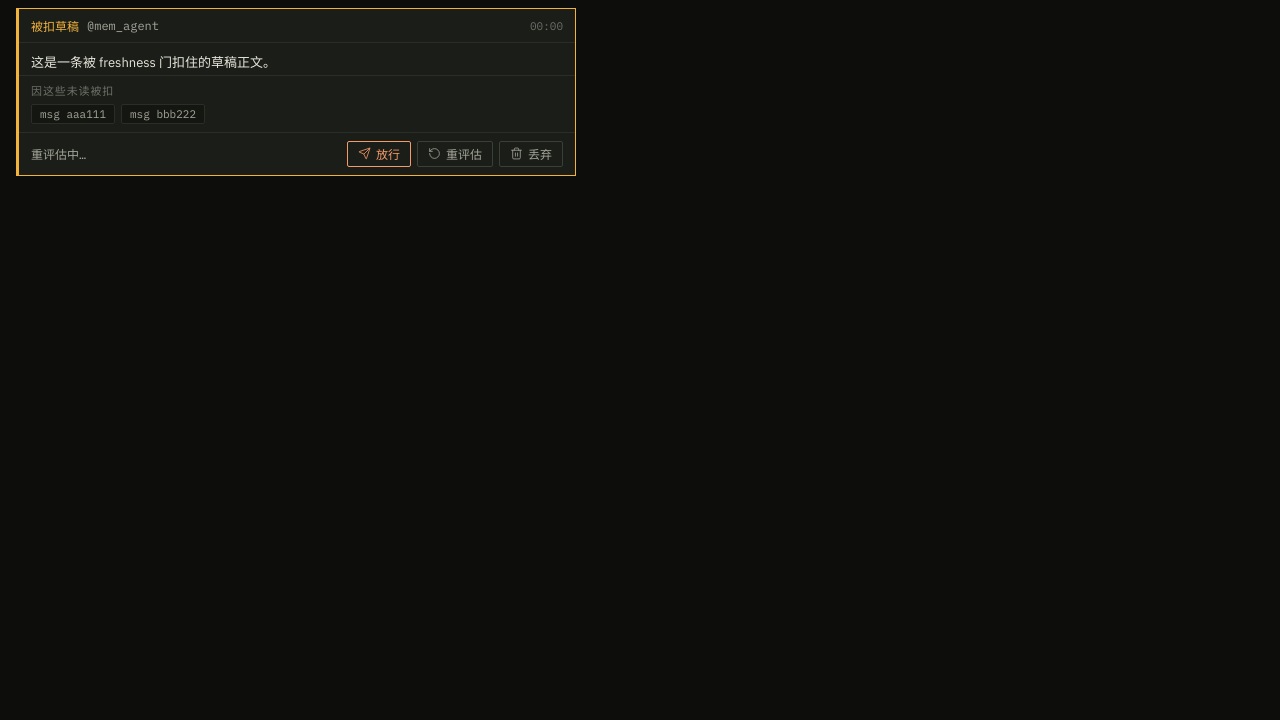
Test: HeldDraftCard 409 静默收敛(经查询缓存刷新) › 非 409 错误(503 daemon 离线)→ 弹 error toast(评审 #3)
Click the button "丢弃" at (531, 154), box [499,140,563,166]
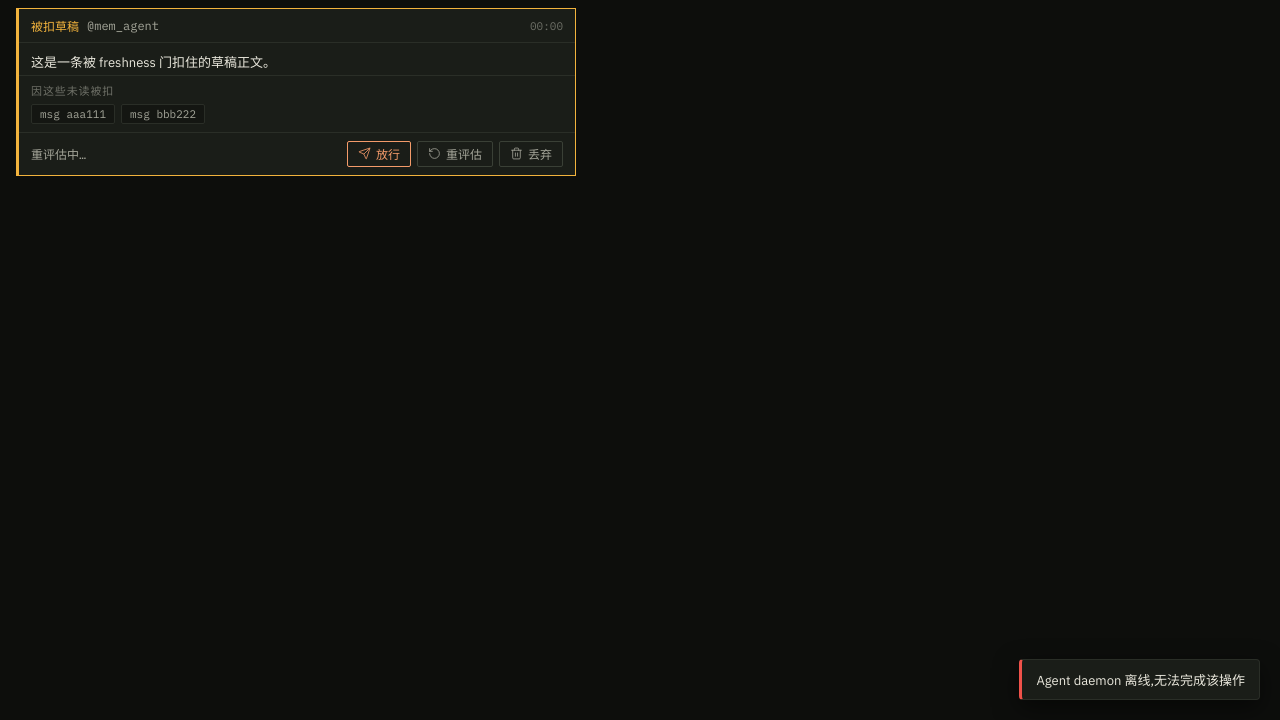
Expected: the text "Agent daemon 离线,无法完成该操作" is shown, [1020,659,1260,700]
